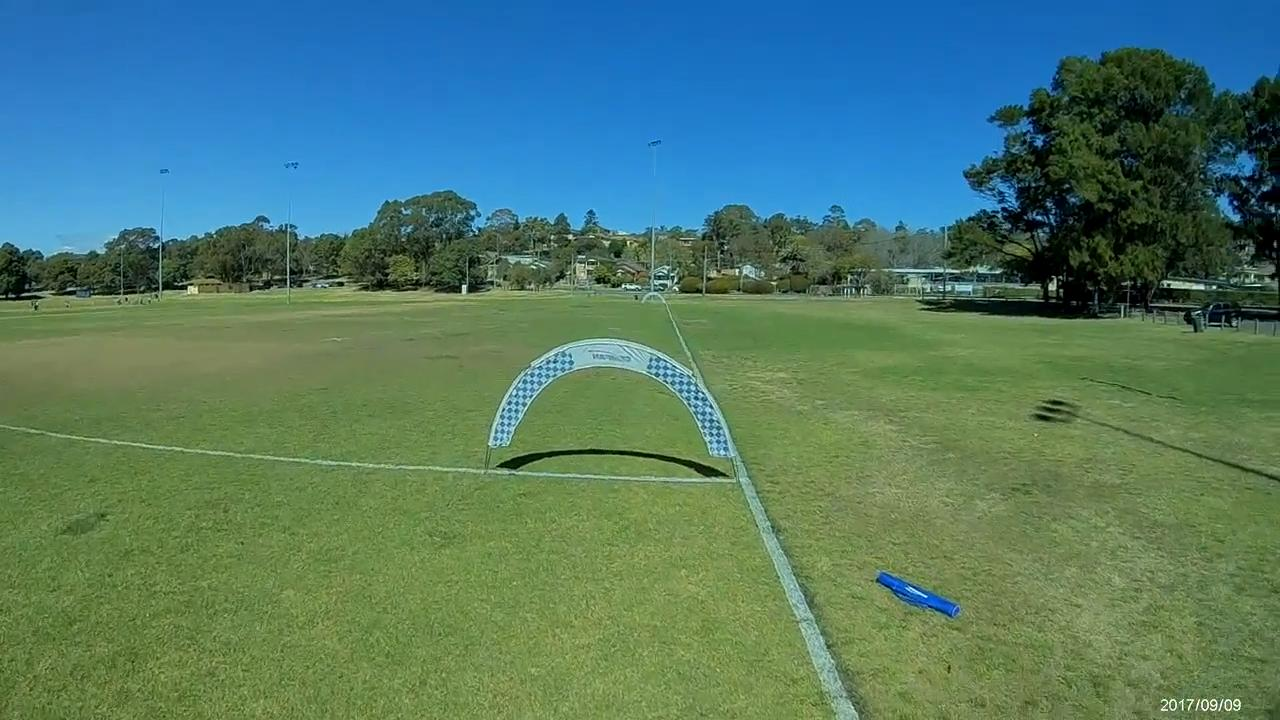gate: (488, 335, 736, 462)
